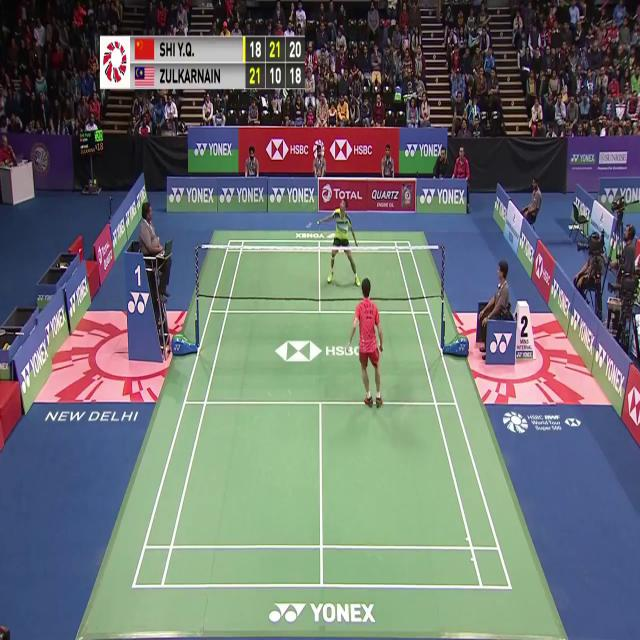Shuttlecock: (308, 69, 315, 80)
